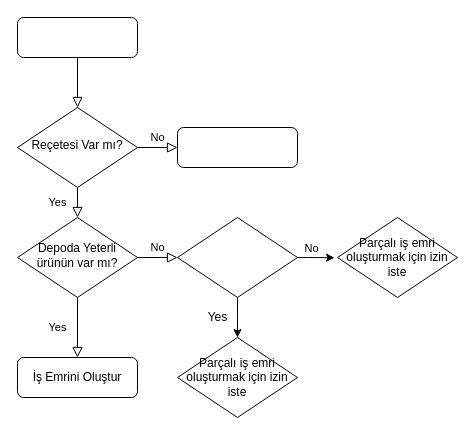
Some shapes in this 475 by 435 pixel diagram are drawn without their labels. Each missing label, with the centre of its shape:
"en az 1 mamül çıkartacak hammadden var mı?" goes at point (237, 257).
"İş Emri Ver" goes at point (77, 37).
"Reçete Kayıt Ekranı Aç" goes at point (237, 147).
